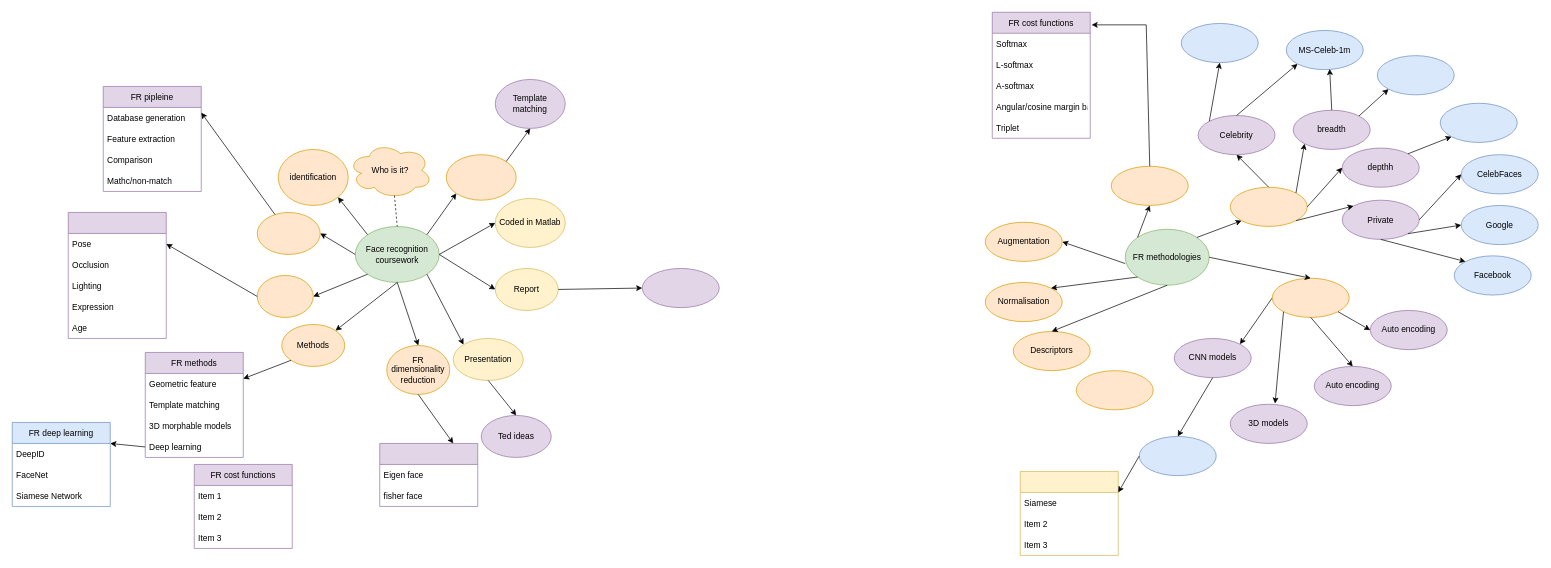
The diagram is 1551 pixels wide and 568 high, and some of its shapes have lost their labels. Each missing label, with the box of its shape:
Architectures: (1139, 436, 1216, 476)
Baseline method: (446, 154, 516, 200)
Casia Webface: (1181, 23, 1258, 63)
challenges: (257, 275, 313, 317)
Classifiers: (1076, 370, 1153, 410)
Cost functions: (1111, 166, 1188, 205)
Datasets: (1230, 187, 1307, 226)
FR Architectures: (1020, 471, 1118, 555)
FR challenges: (68, 212, 166, 338)
FR PCA: (379, 443, 478, 506)
Journals: (642, 268, 719, 308)
Megaface: (1377, 55, 1454, 95)
Models: (1272, 278, 1349, 317)
Pipeline: (257, 212, 320, 254)
VGGFace: (1440, 103, 1517, 142)
